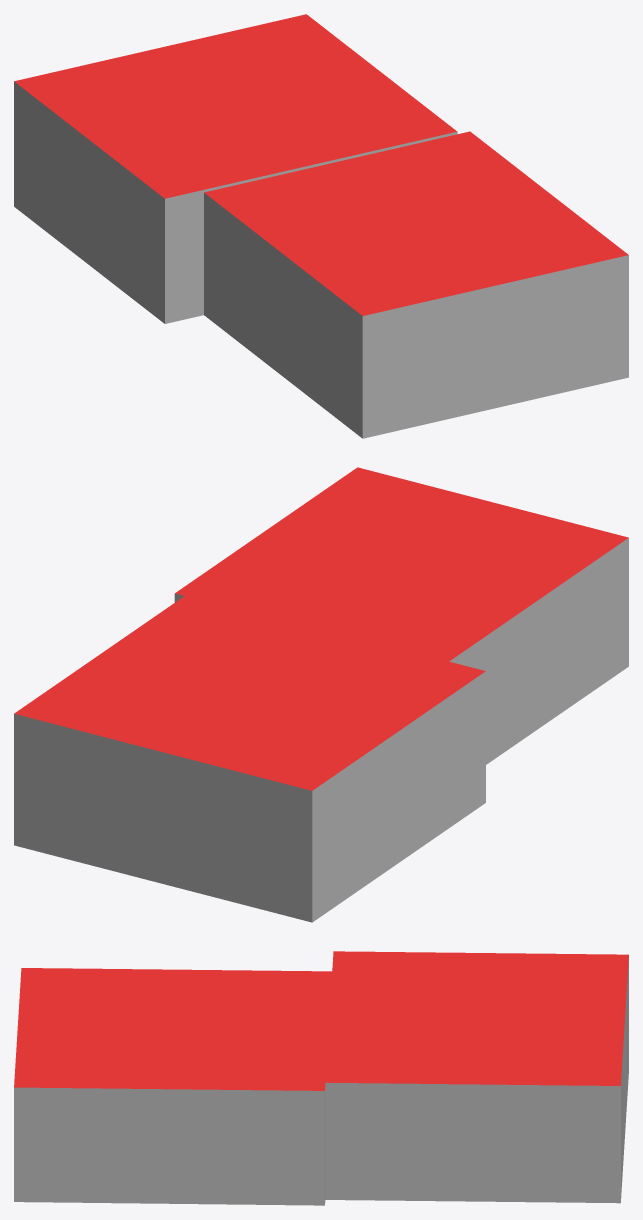
File: DEBE3D04YY50000Lqg.dae
3 renders of one model, top to bottom at view 1: azimuth 30°, elevation 25°; view 2: azimuth 150°, elevation 25°; view 3: azimuth 270°, elevation 25°, orthographic. The views are drawn at different scales.
Size of the model in its own units: 6.26 by 11.86 by 2.49.
